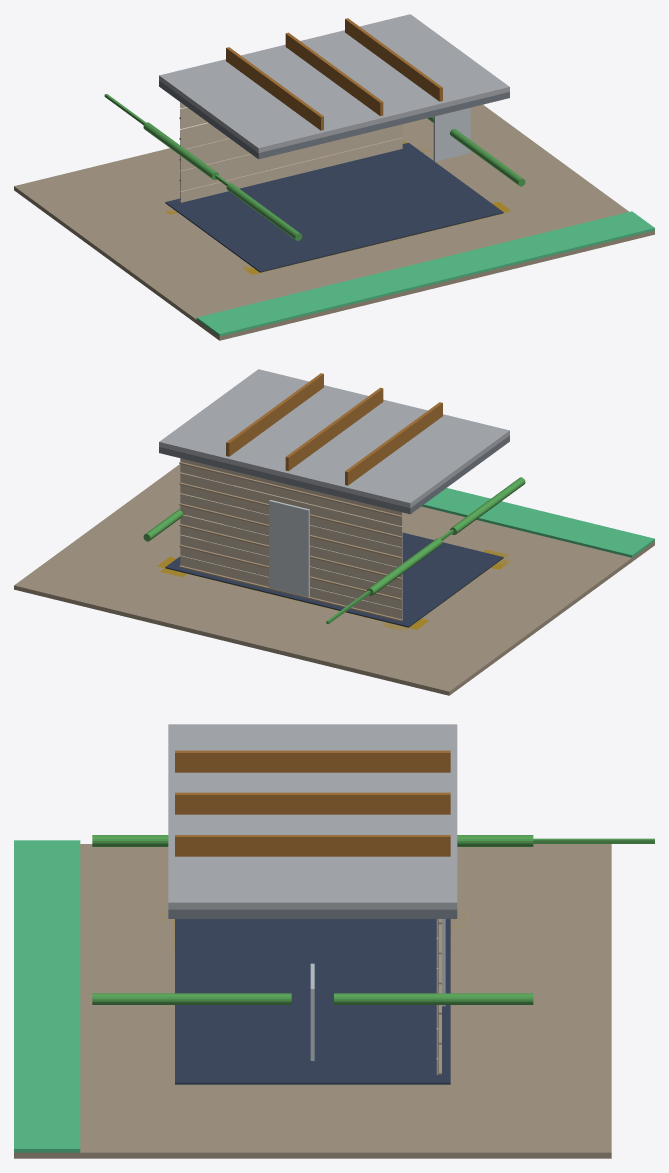
File: stage_11_finishing.glb
The picture shows the model from 3 angles, top to bottom: view 1: azimuth 30°, elevation 25°; view 2: azimuth 150°, elevation 25°; view 3: azimuth 270°, elevation 25°; orthographic projection. The views are drawn at different scales.
Parts seen in each view (by area): view 1: world; view 2: world; view 3: world.
Part boxes in pixels (x1,y1,x2,y2): world: (14,14,654,340); world: (14,369,654,695); world: (14,724,654,1158).
Size of the model in its own units: 11 by 4.2 by 9.65.
